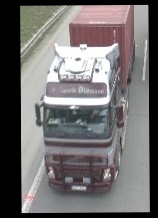truck: (33, 6, 136, 195)
